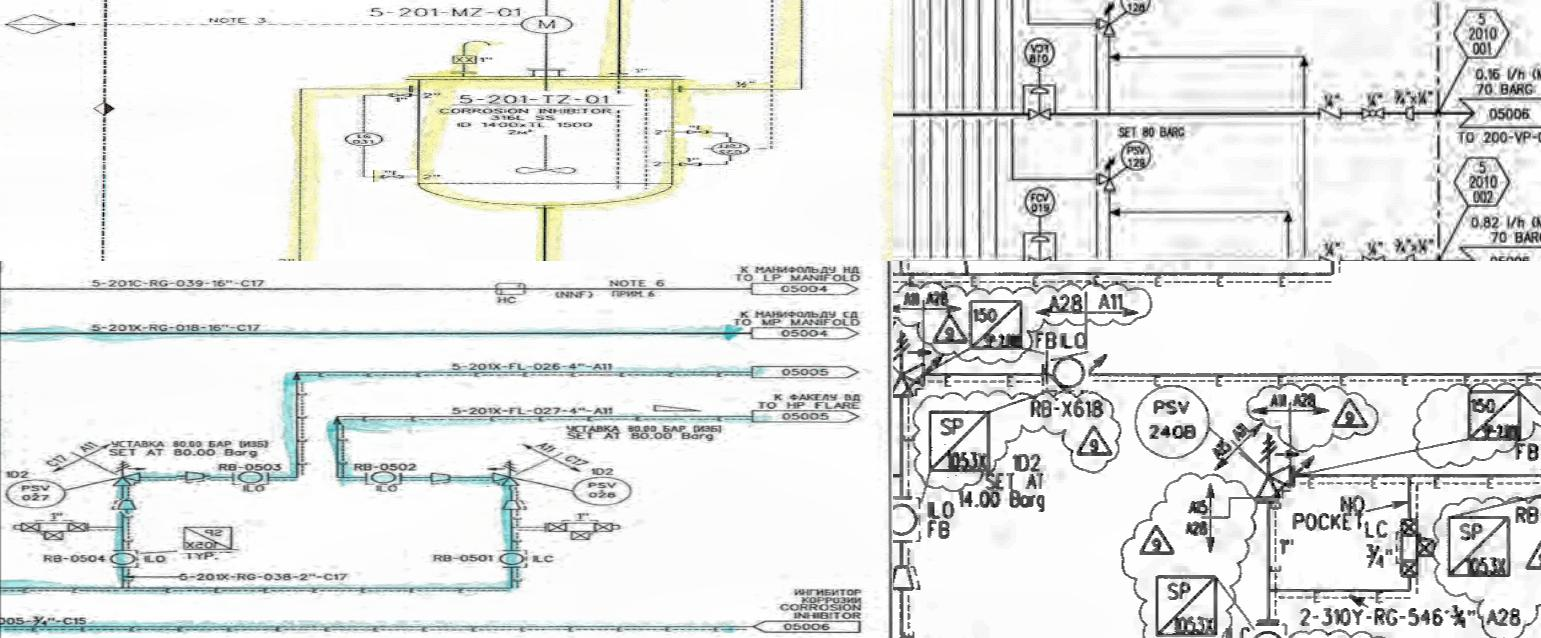2 WAY VALVE: (1386, 513, 1440, 592), (19, 261, 92, 281), (541, 261, 615, 280)
ANGLE RELIEF VALVE: (1252, 423, 1308, 520), (893, 319, 937, 407), (1090, 0, 1118, 41), (1096, 156, 1121, 200)
CONCENTRIC REDUCER: (893, 561, 929, 601), (1404, 102, 1420, 125)
CONNECTOR: (1398, 252, 1422, 261)
DIAPHRAGM ACTUATED VALVE: (1022, 86, 1056, 124), (1025, 233, 1058, 261)
FIELD INSTRUMENT: (1130, 379, 1216, 462), (1044, 351, 1088, 400), (1021, 38, 1060, 74), (1018, 185, 1058, 220), (893, 501, 922, 545), (703, 137, 754, 161), (1119, 140, 1154, 174), (335, 129, 390, 148), (518, 16, 576, 34), (1244, 623, 1292, 638), (1118, 0, 1151, 18), (497, 289, 526, 307), (106, 291, 140, 306)
GATE VALVE: (374, 170, 420, 182), (668, 158, 712, 169), (675, 126, 713, 138), (379, 91, 416, 99)
HARDWIRED INTERLOCK PRIMARY.: (4, 16, 67, 35)
NO ACCESS INDICATOR: (1446, 0, 1520, 67), (1451, 152, 1518, 218)
PIPE CONNECTION FLAG: (1448, 88, 1541, 139), (1452, 235, 1541, 261)
PLUG VALVE: (1351, 96, 1392, 126), (1356, 247, 1393, 261)
REVISION TRIANGLE: (1325, 389, 1372, 443), (1074, 419, 1122, 466), (1523, 535, 1541, 576)
SPECIAL PIPING ITEM: (920, 401, 1000, 479), (1446, 511, 1522, 583), (1150, 563, 1222, 638), (1458, 379, 1530, 451), (962, 291, 1028, 355), (178, 263, 240, 293)
